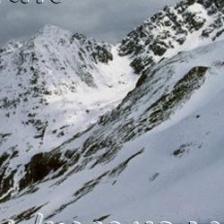neutral: (1, 7, 224, 197)
